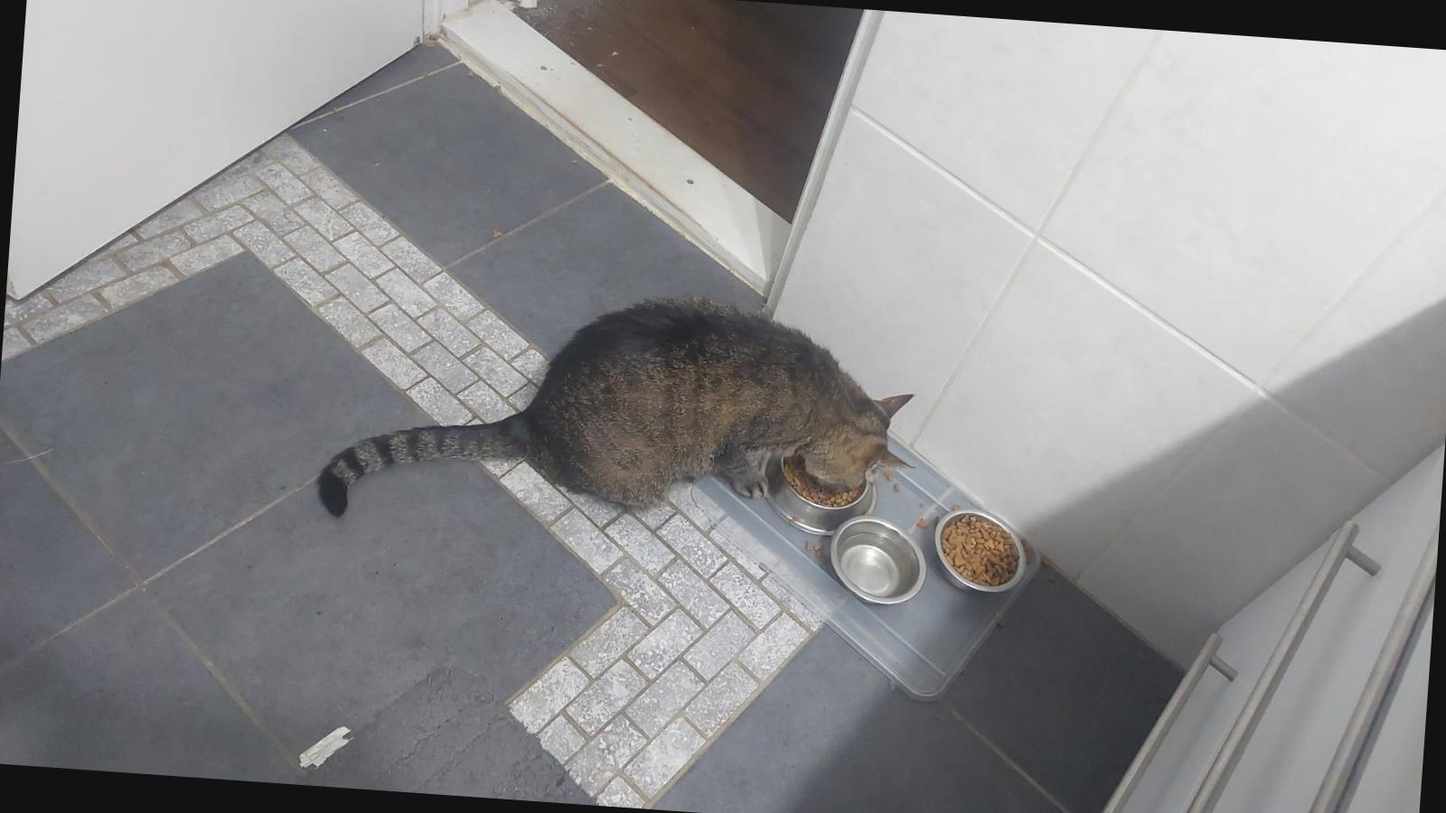macka: (316, 273, 923, 561)
